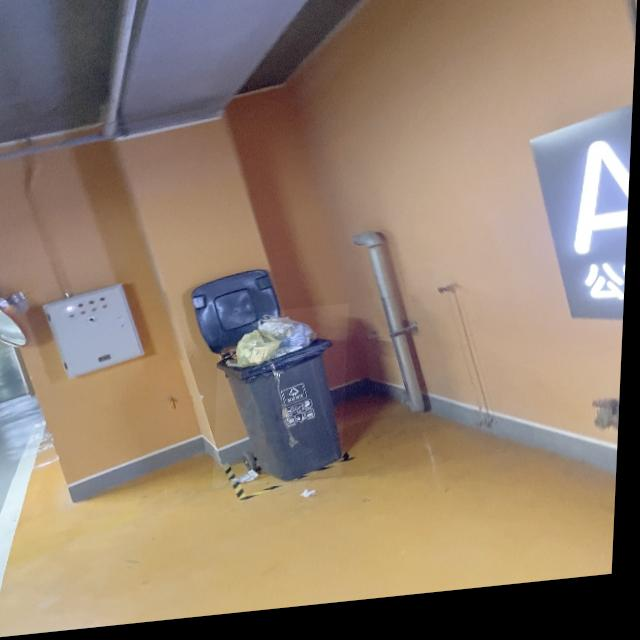overflow: (217, 311, 352, 494)
